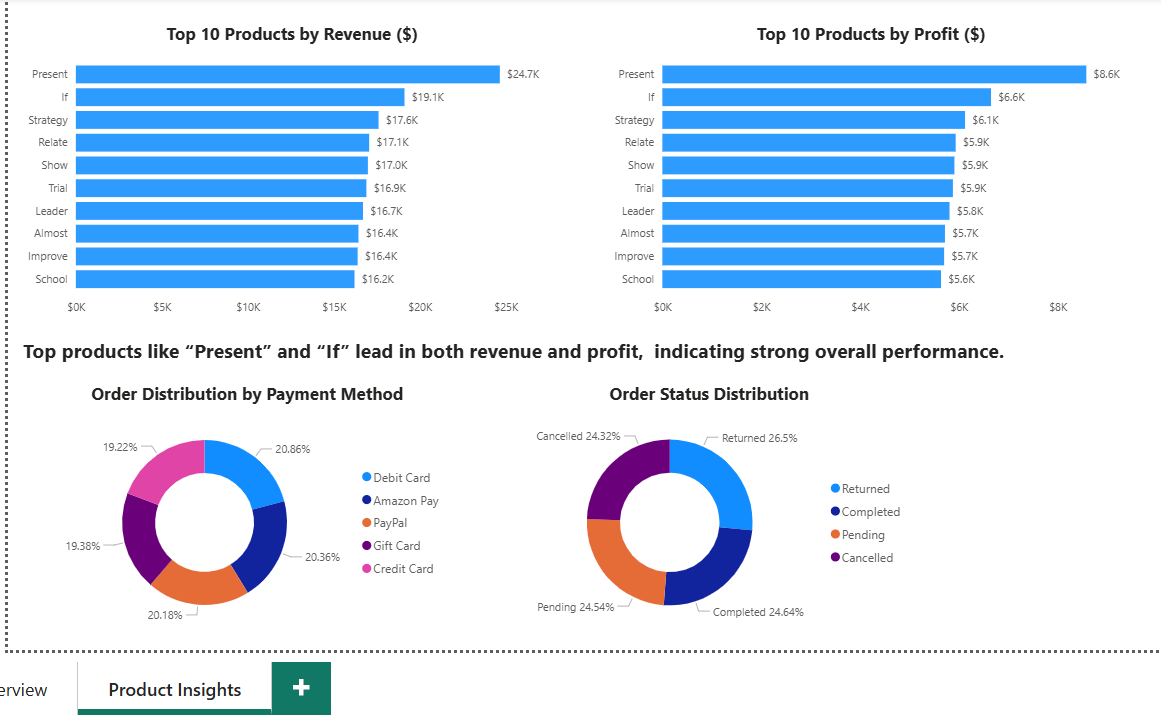

The dashboard page shown, as its layout file describes it:
{"tool":"powerbi","page":{"name":"Product Insights","canvas":[1280,720],"ordinal":1},"visuals":[{"type":"clusteredBarChart","title":"Top 10 Products by Revenue ($)","fields":{"Category":["sales_dataset_2019_2024_.product_name"],"Y":["Measure.Total Revenue"]},"box":[12.1,26.5,604.6,333],"z":0},{"type":"clusteredBarChart","title":"Top 10 Products by Profit ($)","fields":{"Category":["sales_dataset_2019_2024_.product_name"],"Y":["Measure.Total Profit"]},"box":[659.3,26.5,588.1,333],"z":1},{"type":"textbox","box":[11.6,369.4,1131.4,41.4],"z":2},{"type":"donutChart","title":"Order Distribution by Payment Method","fields":{"Category":["sales_dataset_2019_2024_.payment_method"],"Y":["Measure.Total Orders"]},"box":[38.1,424.1,452.2,284.9],"z":3},{"type":"donutChart","title":"Order Status Distribution","fields":{"Category":["sales_dataset_2019_2024_.order_status"],"Y":["Measure.Total Orders"]},"box":[548.3,424.1,452.2,284.9],"z":4}]}

Visuals, with their boxes on the page's 1280x720 design canvas (x1, y1, x2, y2). These are canvas units, not pixel positions in the 1161x715 screenshot, which may show the page scaled, cropped or inside an application window:
"Top 10 Products by Revenue ($)" clusteredBarChart: box(12, 26, 617, 360)
"Top 10 Products by Profit ($)" clusteredBarChart: box(659, 26, 1247, 360)
textbox: box(12, 369, 1143, 411)
"Order Distribution by Payment Method" donutChart: box(38, 424, 490, 709)
"Order Status Distribution" donutChart: box(548, 424, 1000, 709)
